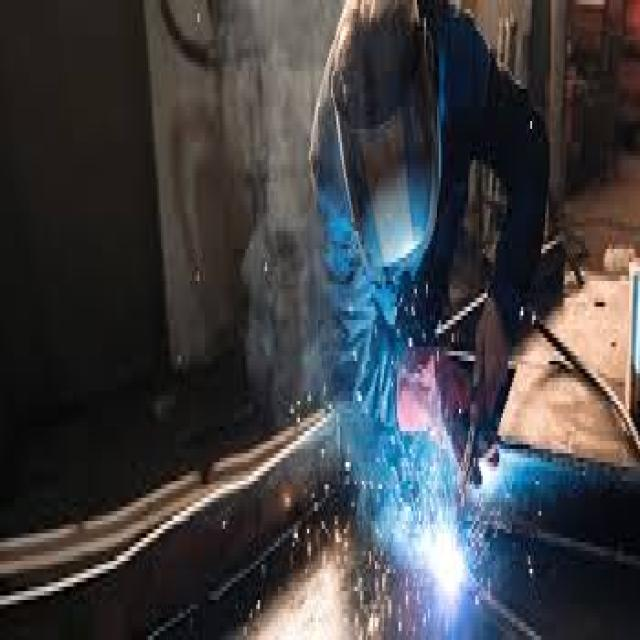welding: (434, 528, 464, 598)
